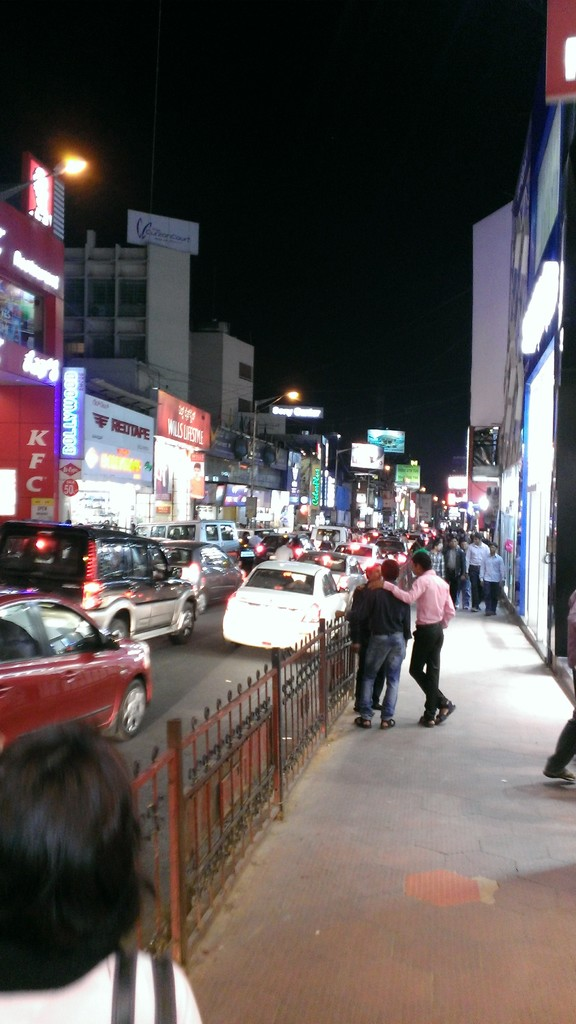Car: (1, 520, 202, 641), (0, 587, 151, 748), (218, 553, 351, 651), (164, 538, 246, 616)
